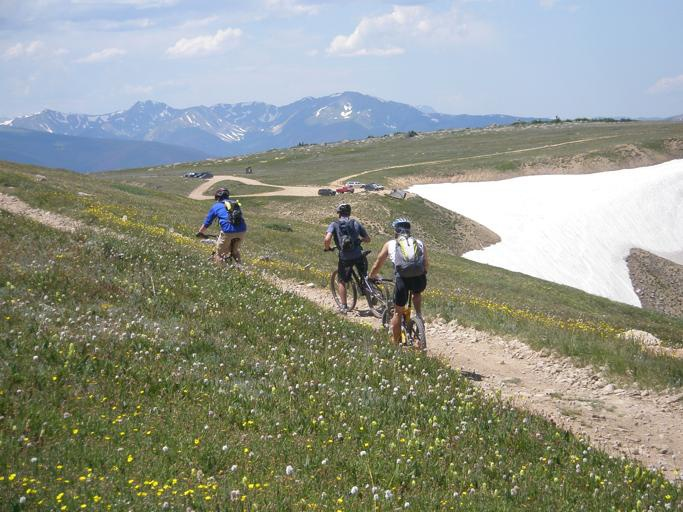non-vehicle: (322, 240, 391, 317), (360, 274, 424, 353), (196, 229, 244, 271)
